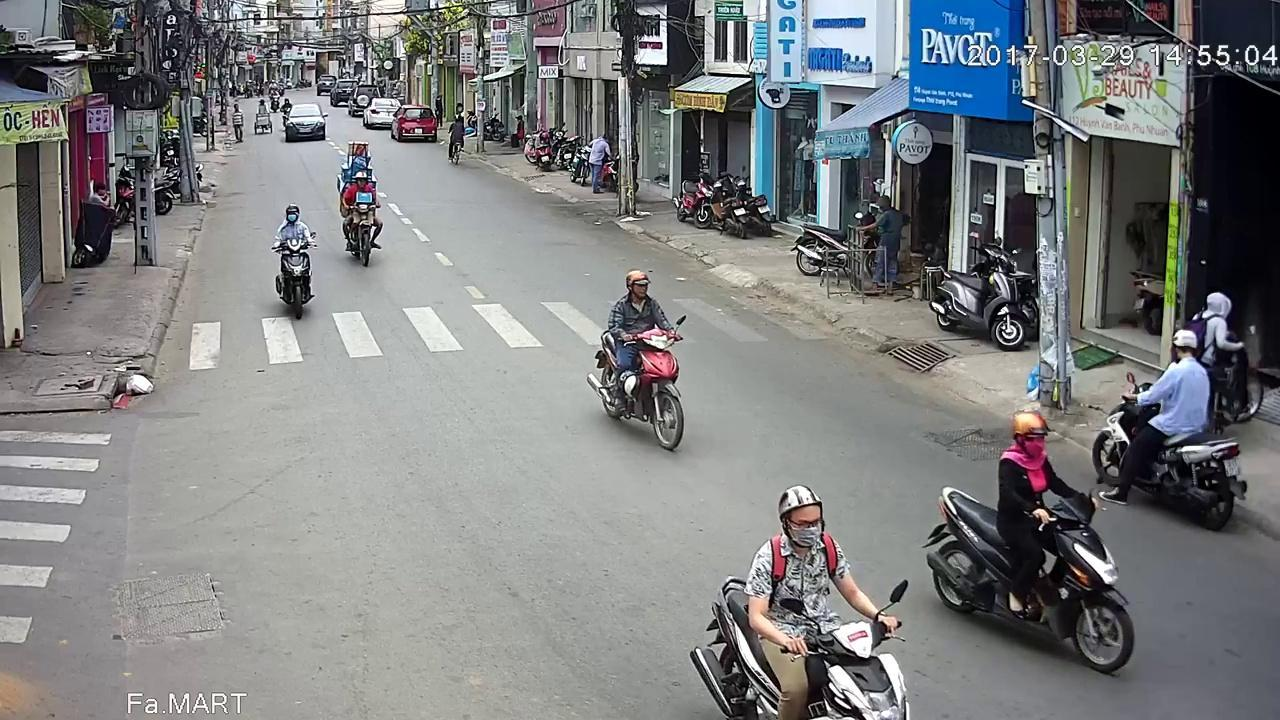xe dap: (449, 119, 466, 171)
xe hoi: (278, 102, 325, 144), (392, 105, 439, 142)
xe may: (688, 454, 912, 720), (922, 396, 1137, 659), (1085, 319, 1241, 523), (592, 268, 692, 448), (269, 204, 318, 320), (342, 170, 384, 266)
